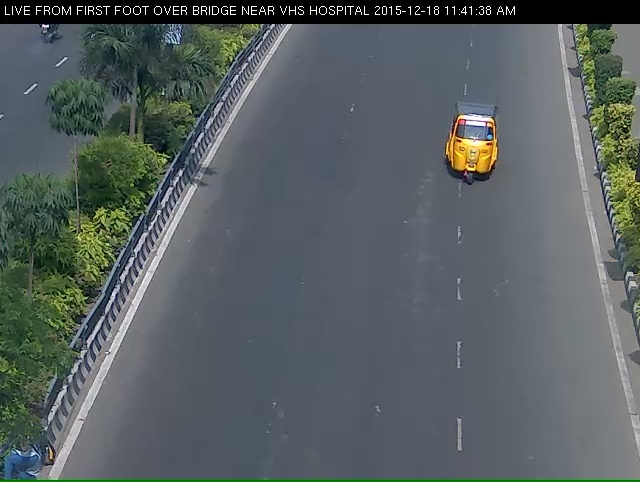Car: (445, 107, 503, 202)
